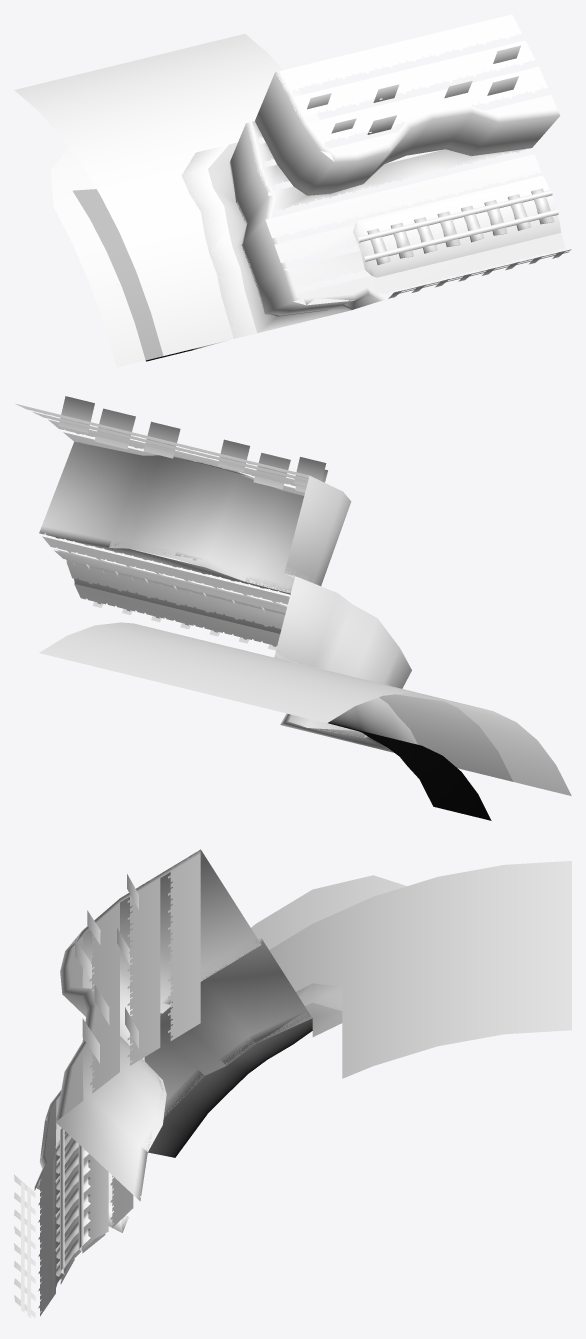
File: grd_Enw_M_0.dae
3 renders of one model, top to bottom at view 1: azimuth 30°, elevation 25°; view 2: azimuth 150°, elevation 25°; view 3: azimuth 270°, elevation 25°, orthographic. The views are drawn at different scales.
Parts seen in each view (by area): view 1: grd_Enw_M_0; view 2: grd_Enw_M_0; view 3: grd_Enw_M_0.
Part boxes in pixels (x1,y1,x2,y2): grd_Enw_M_0: [14, 14, 571, 367]; grd_Enw_M_0: [15, 396, 571, 820]; grd_Enw_M_0: [14, 849, 571, 1317].
Size of the model in its own units: 576 by 326 by 440.
8 materials, 1 textured.
